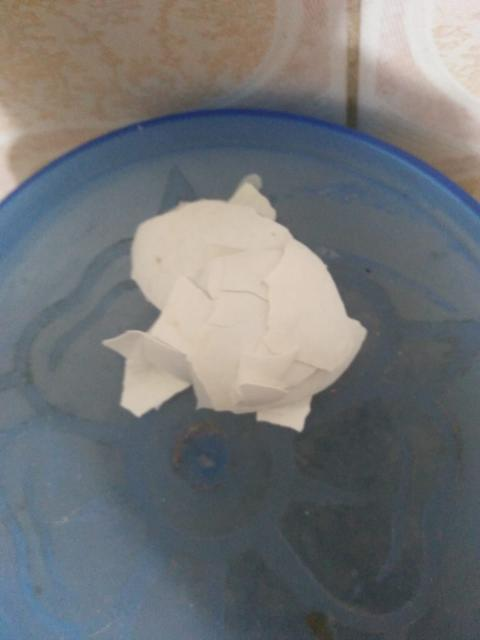Roto: (102, 174, 368, 432)
